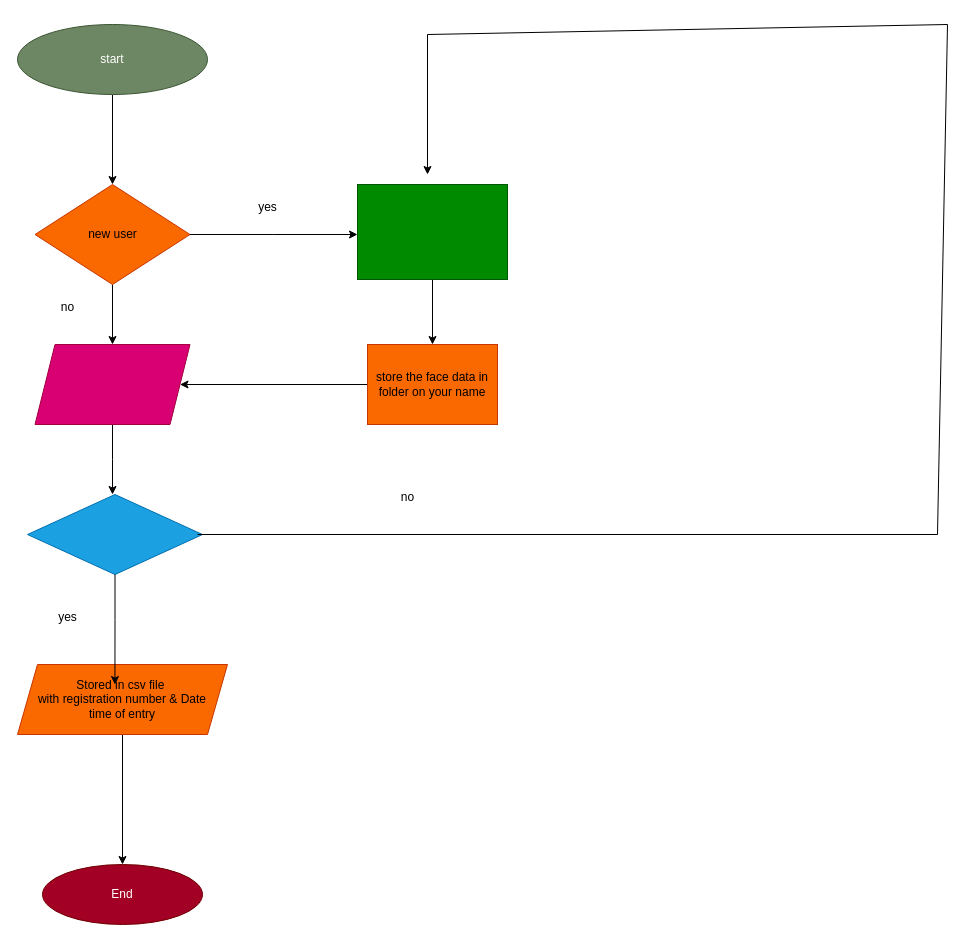
Some shapes in this 973 by 942 pixel diagram are drawn without their labels. The box of each missing label's shape, as (x1, y1, x2, y2) in pixels:
Face Recognized: (26, 494, 202, 574)
give your photography: (356, 184, 508, 280)
Recognitze the face: (34, 344, 190, 424)
